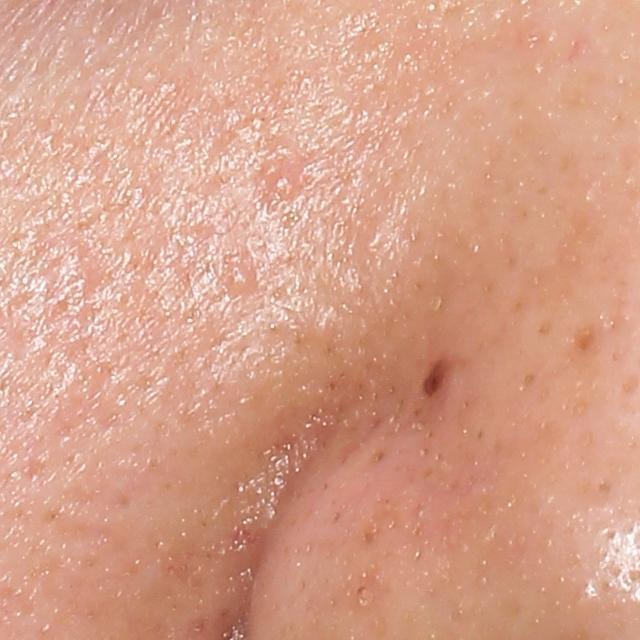comedo: (254, 148, 308, 202), (220, 255, 260, 301)
nevus: (420, 354, 456, 398)
